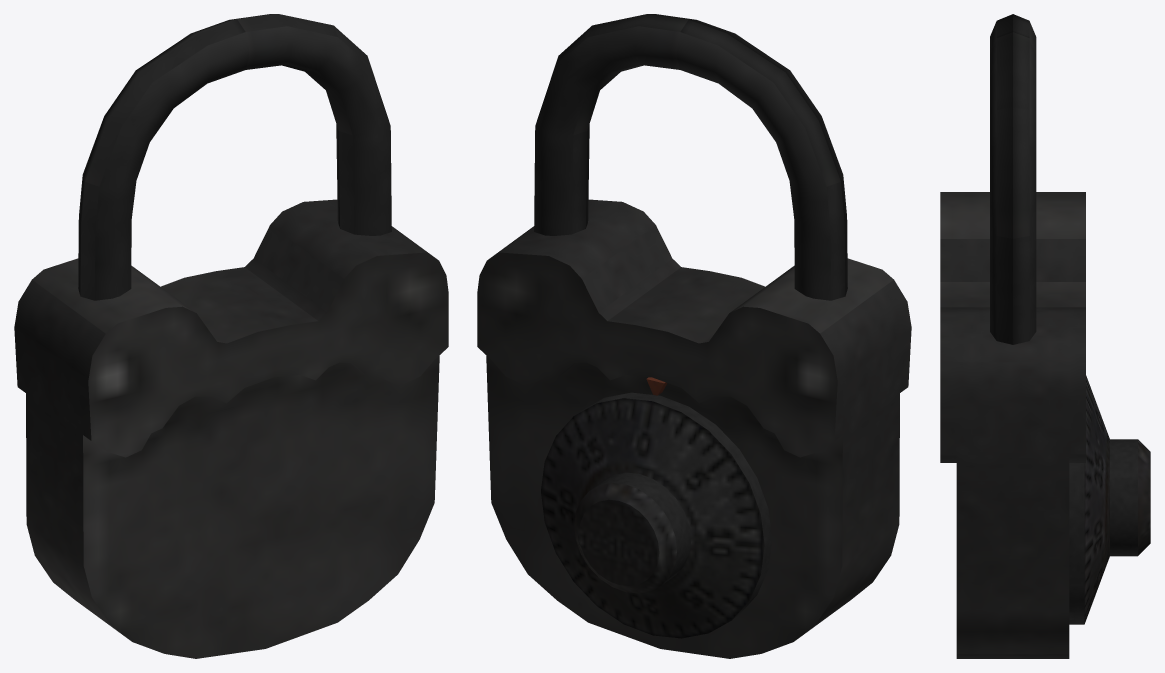
Rendered from padlock_2.obj.
3 renders of one model, left to right at view 1: azimuth 30°, elevation 25°; view 2: azimuth 150°, elevation 25°; view 3: azimuth 270°, elevation 25°, orthographic.
Parts seen in each view (by area): view 1: padlock_2; view 2: padlock_2, knob_1; view 3: padlock_2, knob_1.
Part boxes in pixels (x1,y1,x2,y2): padlock_2: (14, 14, 448, 658); padlock_2: (477, 14, 911, 658); knob_1: (541, 392, 772, 638); padlock_2: (940, 14, 1085, 658); knob_1: (1069, 375, 1150, 624).
Size of the model in its own units: 0.0805 by 0.1299 by 0.0413.
